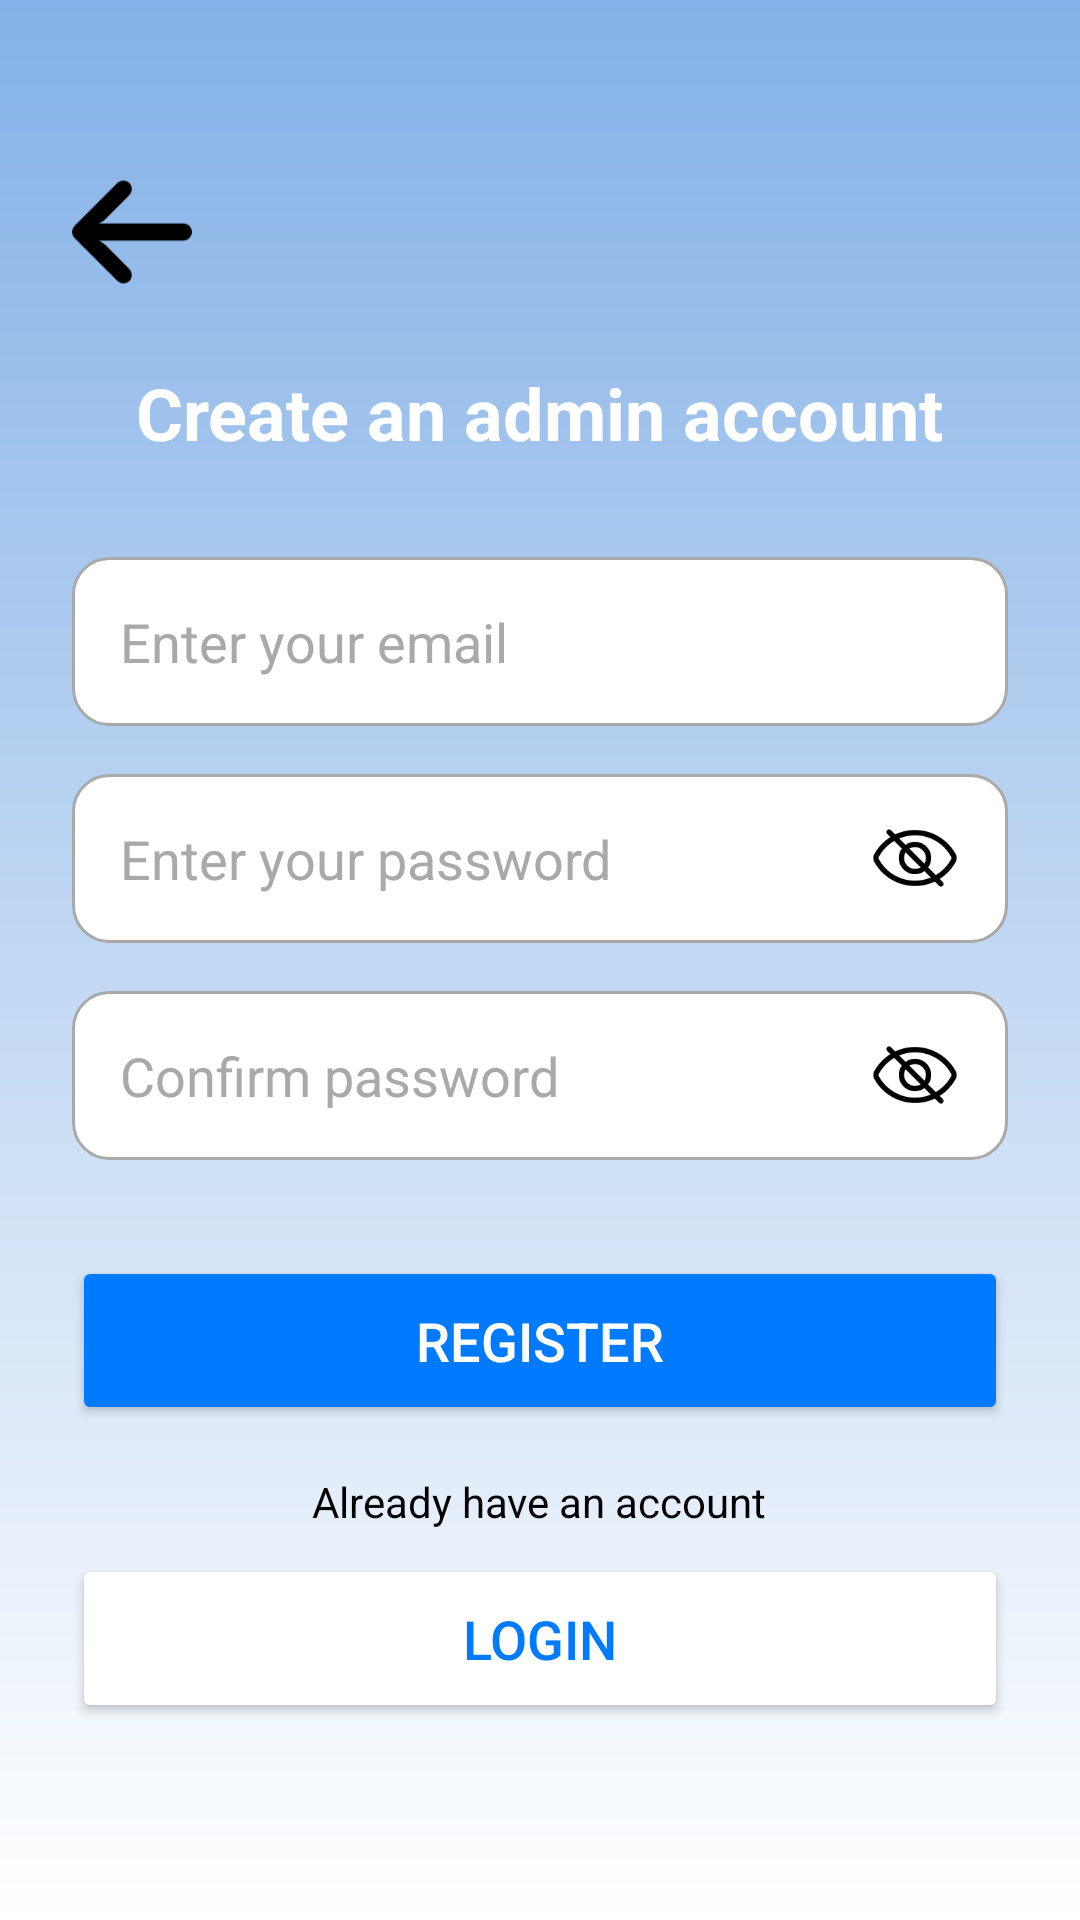

Screen size 1080 x 1920. Icon name, then its box in pixels as {"x1": x1, "y1": y1, "x2": x2, "y2": y2}:
Back: {"x1": 72, "y1": 180, "x2": 192, "y2": 284}
Toggle Password Visibility: {"x1": 873, "y1": 829, "x2": 957, "y2": 887}
